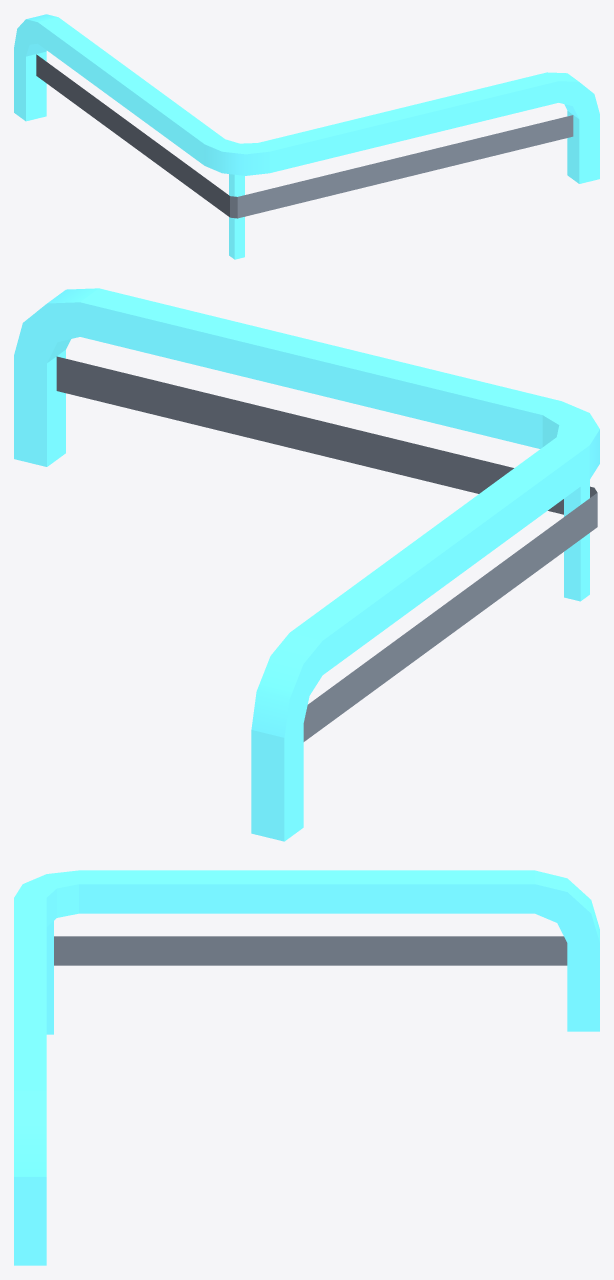
Rendered from rail_corner.glb.
3 renders of one model, top to bottom at view 1: azimuth 30°, elevation 25°; view 2: azimuth 150°, elevation 25°; view 3: azimuth 270°, elevation 25°, orthographic. The views are drawn at different scales.
Parts seen in each view (by area): view 1: rail_corner; view 2: rail_corner; view 3: rail_corner.
Boxes of the visible parts, box(x1,y1,x2,y2) form: rail_corner: box(14, 14, 599, 259); rail_corner: box(14, 288, 599, 841); rail_corner: box(14, 870, 599, 1265).
Bounding box in the file's own units: 0.9 × 0.25 × 0.9.
